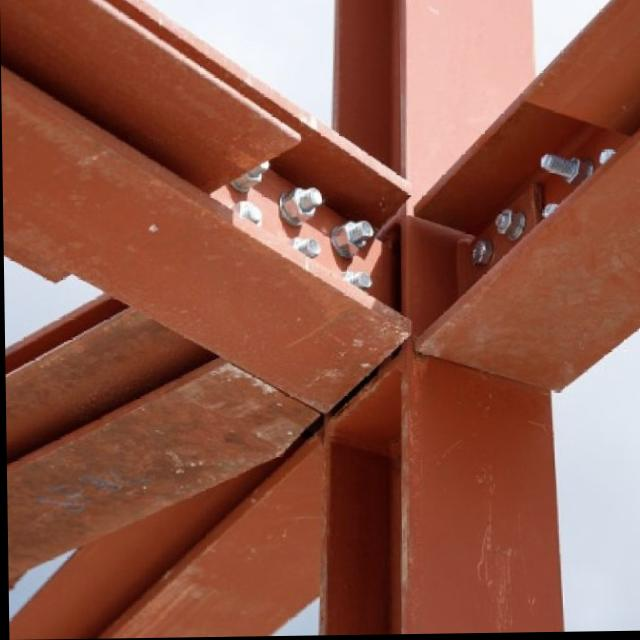Regular bolt: (223, 146, 284, 197), (223, 200, 278, 247), (277, 181, 328, 231), (329, 220, 377, 266), (490, 198, 535, 243), (278, 237, 326, 279), (339, 269, 378, 304), (466, 236, 492, 267)
